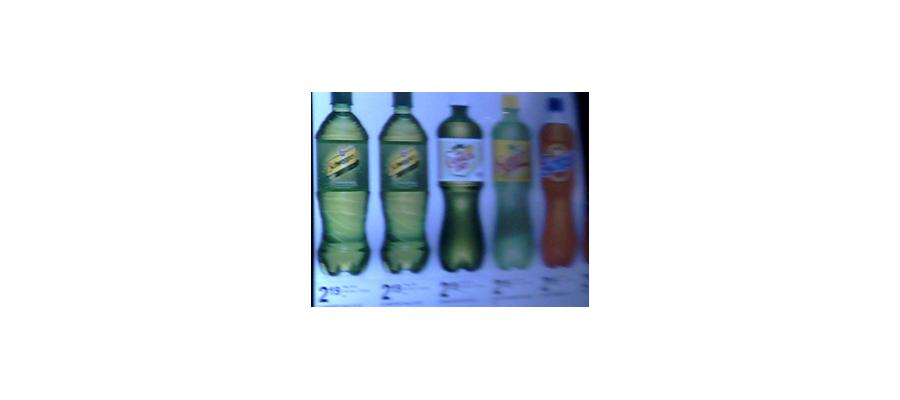bottle: (316, 98, 371, 275), (432, 103, 487, 273), (534, 92, 584, 272), (377, 97, 429, 269), (492, 91, 534, 264)
